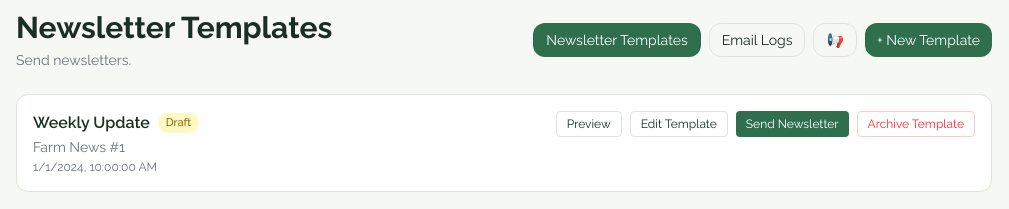
Test: NewsletterPage (template UI) › shows preview error when preview API fails
What coordinates should you click on to do the following:
click the button "Preview"
I would click on:
 (589, 124)
Its box is [556, 111, 622, 137].
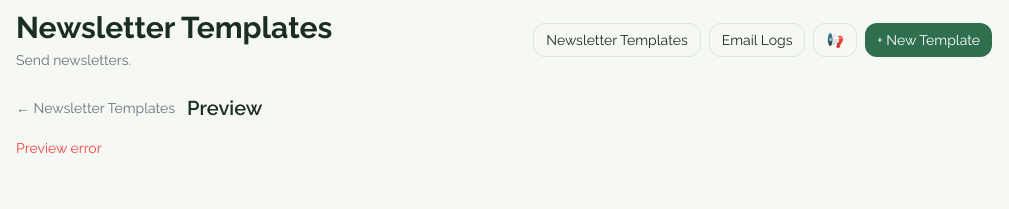
Expected: the text with test id "preview-error" reads "Preview error", [16, 140, 102, 156]
